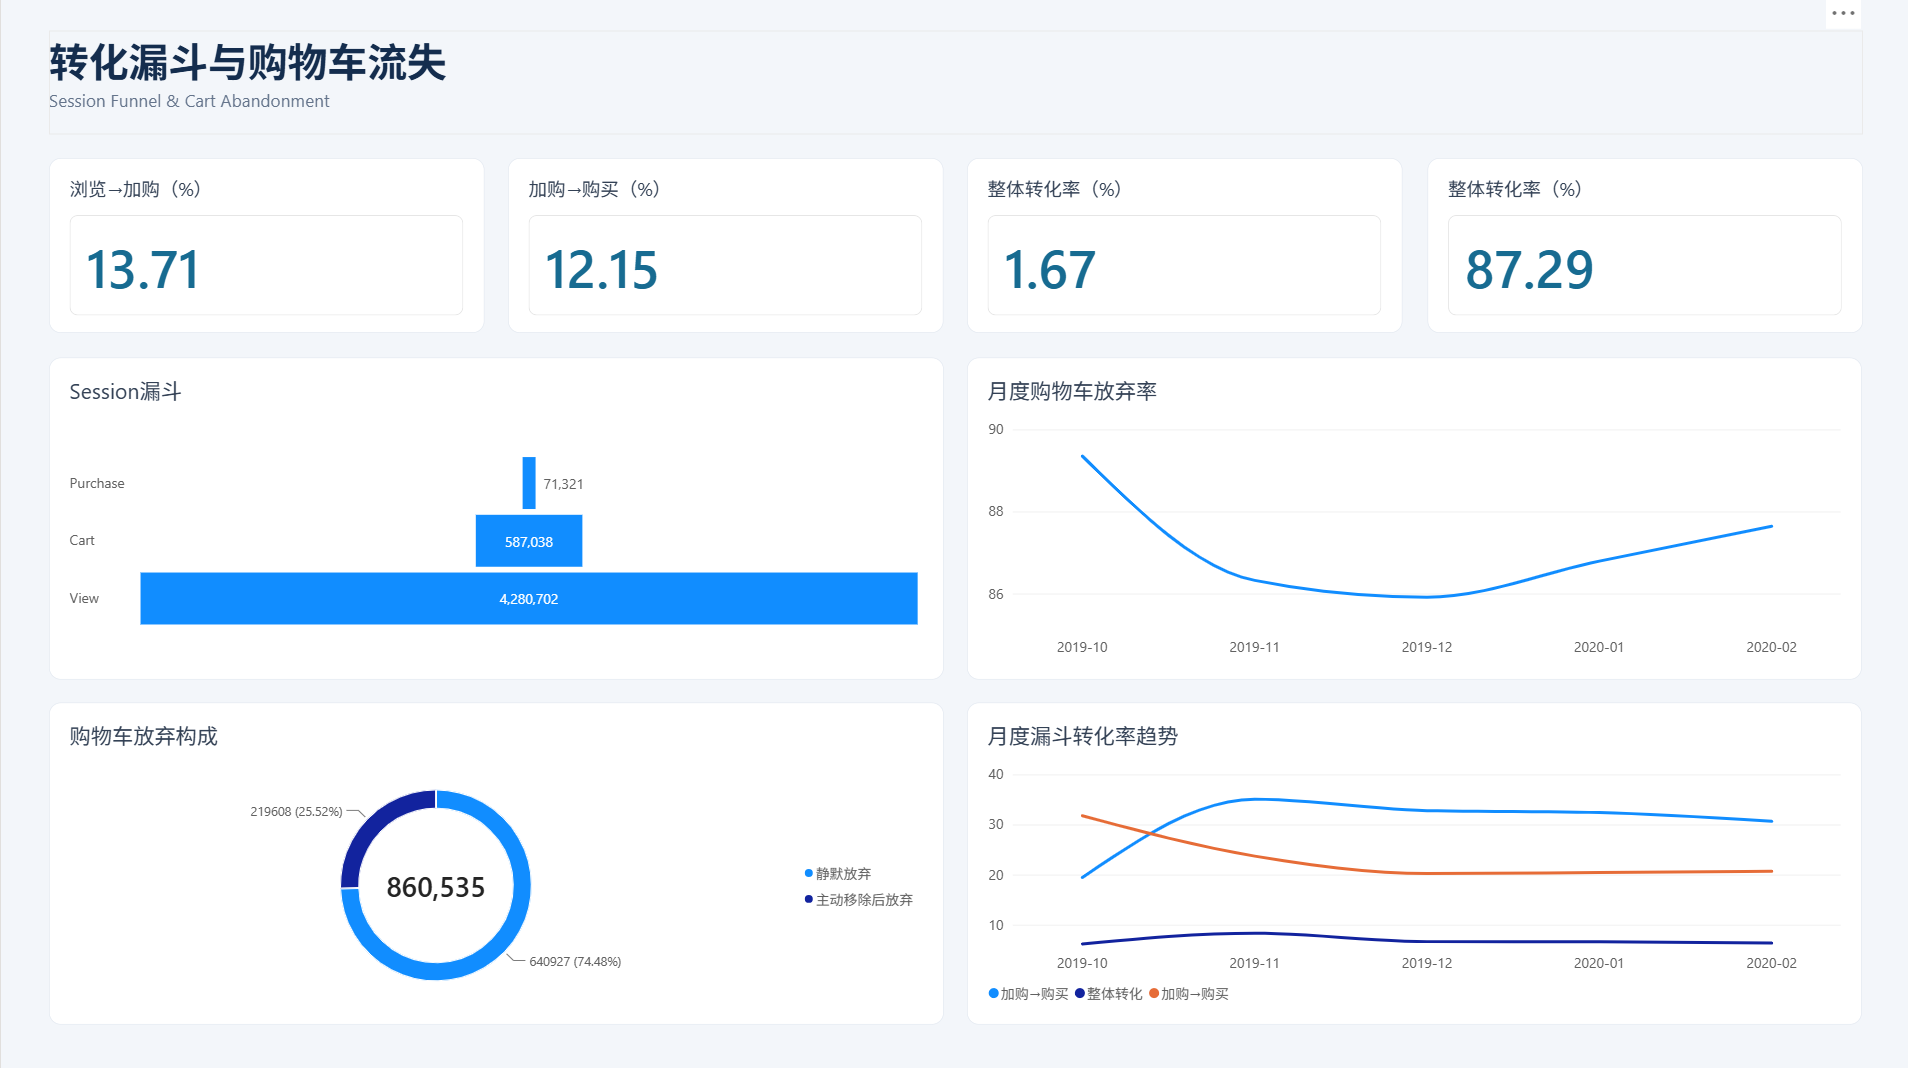

What the dashboard file says about the page in this screenshot:
{"tool":"powerbi","page":{"name":"02 转化与流失","canvas":[1920,1080],"ordinal":1},"visuals":[{"type":"cardVisual","title":"浏览→加购（%）","fields":{"Data":["Sum(user_behavior_analysis bi_conversion_kpi.view_to_cart_rate)"]},"box":[48,160,438,176],"z":0},{"type":"cardVisual","title":"加购→购买（%）","fields":{"Data":["Sum(user_behavior_analysis bi_conversion_kpi.cart_to_purchase_rate)"]},"box":[510,160,438,176],"z":1},{"type":"cardVisual","title":"整体转化率（%）","fields":{"Data":["Sum(user_behavior_analysis bi_conversion_kpi.overall_rate)"]},"box":[972,160,438,176],"z":2},{"type":"cardVisual","title":"整体转化率（%）","fields":{"Data":["Sum(user_behavior_analysis bi_conversion_kpi.abandonment_rate)"]},"box":[1434,160,438,176],"z":3},{"type":"funnel","title":"Session漏斗 ","fields":{"Category":["user_behavior_analysis bi_session_funnel.stage"],"Y":["Sum(user_behavior_analysis bi_session_funnel.sessions)"]},"box":[48,360,900,324],"z":4},{"type":"lineChart","title":"月度购物车放弃率","fields":{"Category":["user_behavior_analysis bi_monthly_abandonment.event_month"],"Y":["Sum(user_behavior_analysis bi_monthly_abandonment.abandonment_rate)"]},"box":[972,360,900,324],"z":5},{"type":"donutChart","title":"购物车放弃构成","fields":{"Category":["user_behavior_analysis bi_abandonment_breakdown.abandonment_type"],"Y":["Sum(user_behavior_analysis bi_abandonment_breakdown.sessions)"]},"box":[48,708,900,324],"z":6},{"type":"lineChart","title":"月度漏斗转化率趋势","fields":{"Category":["monthly_funnel.event_month"],"Y":["Sum(monthly_funnel.cart_to_purchase_rate)","Sum(monthly_funnel.overall_rate)","Sum(monthly_funnel.view_to_cart_rate)"]},"box":[972,708,900,324],"z":7},{"type":"textbox","box":[48,32,1824,104],"z":8}]}

Visuals, with their boxes in screenshot pixels (x1, y1, x2, y2), scaled from the page's 1920x1080 canvas onto the 1908x1068 screenshot:
"浏览→加购（%）" cardVisual: (left=48, top=158, right=483, bottom=332)
"加购→购买（%）" cardVisual: (left=507, top=158, right=942, bottom=332)
"整体转化率（%）" cardVisual: (left=966, top=158, right=1401, bottom=332)
"整体转化率（%）" cardVisual: (left=1425, top=158, right=1860, bottom=332)
"Session漏斗 " funnel: (left=48, top=356, right=942, bottom=676)
"月度购物车放弃率" lineChart: (left=966, top=356, right=1860, bottom=676)
"购物车放弃构成" donutChart: (left=48, top=700, right=942, bottom=1021)
"月度漏斗转化率趋势" lineChart: (left=966, top=700, right=1860, bottom=1021)
textbox: (left=48, top=32, right=1860, bottom=134)
